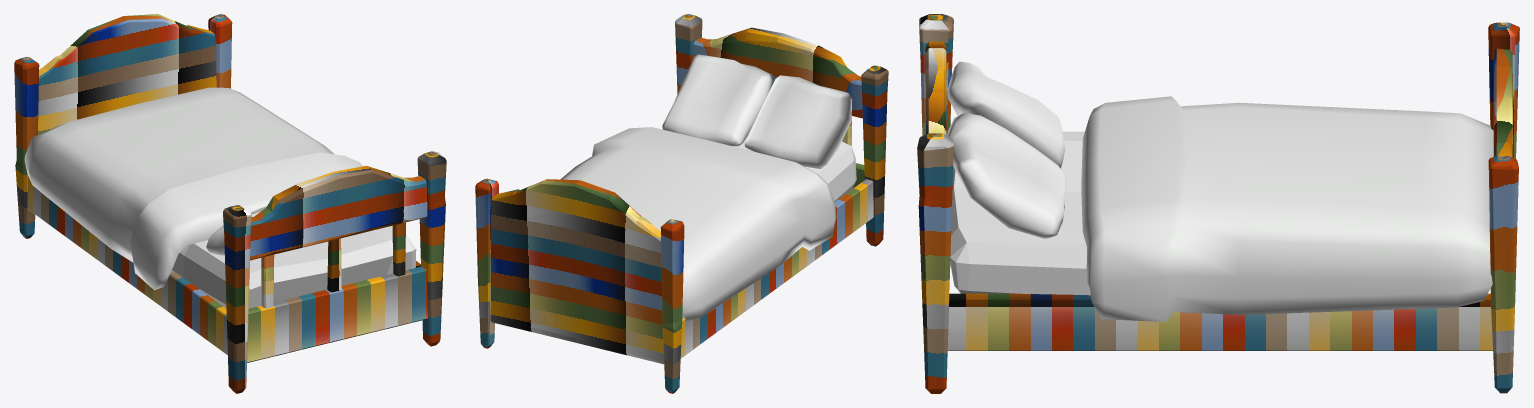
File: P_AP31Bed.glb
3 views of the same model, side by side, from view 1: azimuth 30°, elevation 25°; view 2: azimuth 150°, elevation 25°; view 3: azimuth 270°, elevation 25° (orthographic). The views are drawn at different scales.
Parts seen in each view (by area): view 1: P_AP31Bed; view 2: P_AP31Bed; view 3: P_AP31Bed.
Boxes of the visible parts, x1,y1,x2,y2 form: P_AP31Bed: (14, 14, 446, 393); P_AP31Bed: (475, 14, 888, 393); P_AP31Bed: (917, 14, 1519, 393).
Bounding box in the file's own units: 1.26 × 1 × 2.08.
1 material, 1 textured.
